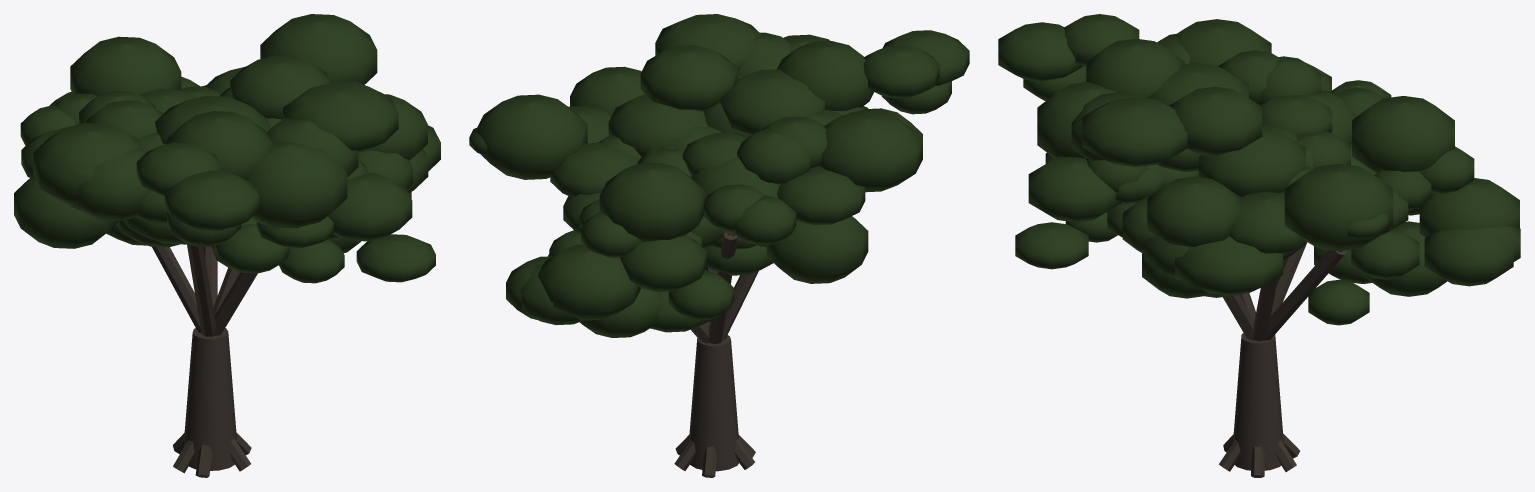
The model's file is KIT_TREE_SMALL.glb.
3 views of the same model, side by side, from view 1: azimuth 30°, elevation 25°; view 2: azimuth 150°, elevation 25°; view 3: azimuth 270°, elevation 25° (orthographic). The views are drawn at different scales.
Parts seen in each view (by area): view 1: KIT_TREE_SMALL; view 2: KIT_TREE_SMALL; view 3: KIT_TREE_SMALL.
Part boxes in pixels (x1,y1,x2,y2): KIT_TREE_SMALL: (14,14,440,477); KIT_TREE_SMALL: (469,14,969,477); KIT_TREE_SMALL: (998,14,1520,477).
Bounding box in the file's own units: 8.51 × 8.24 × 9.96.
